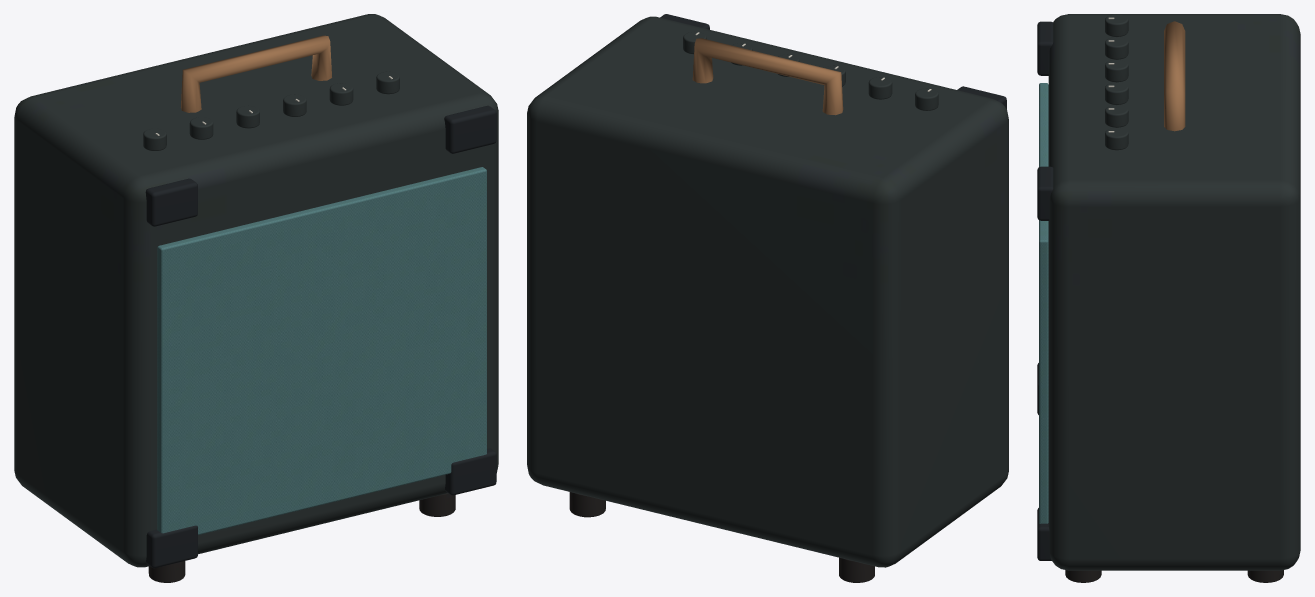
Rendered from amplifier.glb.
3 views of the same model, side by side, from view 1: azimuth 30°, elevation 25°; view 2: azimuth 150°, elevation 25°; view 3: azimuth 270°, elevation 25° (orthographic).
Visible parts, largest first — view 1: Textured guitar amp case, Woven grille panel, Protected cabinet corner, Amp carry handle, Isolation foot; view 2: Textured guitar amp case, Amp carry handle, Isolation foot; view 3: Textured guitar amp case, Woven grille panel, Amp carry handle, Protected cabinet corner, Isolation foot.
Part boxes in pixels (box(x1,y1,x2,y2)): Textured guitar amp case: box(14, 14, 498, 567); Woven grille panel: box(157, 167, 486, 534); Protected cabinet corner: box(145, 105, 496, 568); Amp carry handle: box(181, 35, 331, 112); Isolation foot: box(148, 493, 455, 582); Textured guitar amp case: box(527, 16, 1008, 567); Amp carry handle: box(692, 38, 843, 115); Isolation foot: box(569, 492, 874, 582); Textured guitar amp case: box(1048, 14, 1300, 570); Woven grille panel: box(1039, 83, 1048, 523); Amp carry handle: box(1164, 21, 1185, 131); Protected cabinet corner: box(1037, 21, 1053, 560); Isolation foot: box(1065, 570, 1283, 582).
Size of the model in its own units: 0.4 by 0.4671 by 0.2455.
6 materials, 6 textured.
